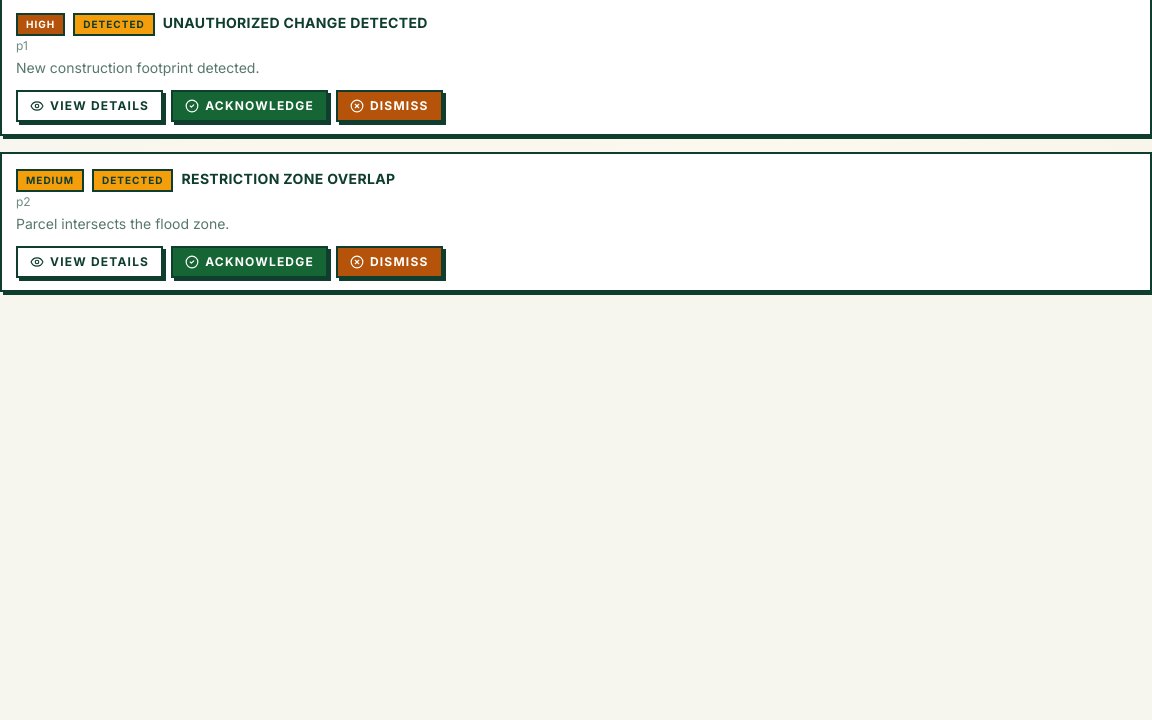
Test: GovernanceAlertsPanel › typing a reason and confirming Dismiss PATCHes the status with the reason, then closes the popup
Expected: the text "UNAUTHORIZED CHANGE DETECTED" is shown, [163,14,428,31]
Click the button "Dismiss" below "New construction footprint detected.": (389, 106) [336,90,442,122]
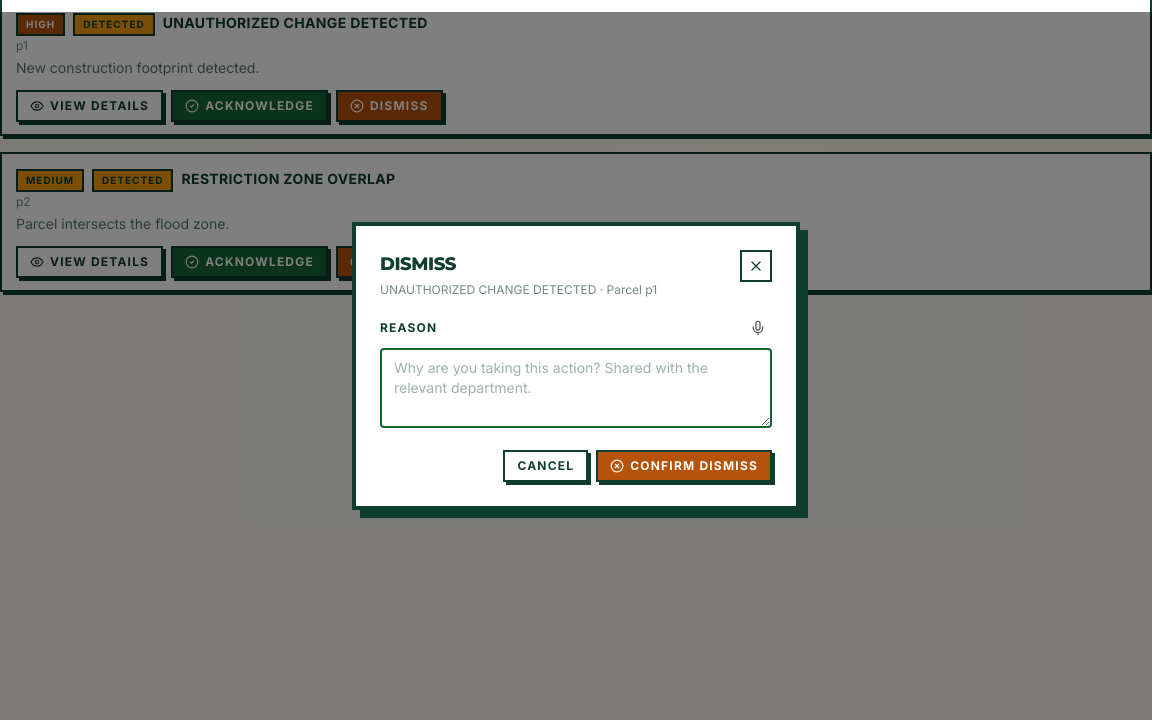
Replace the text in the text box labelled "Reason" with "Not a real issue.": (576, 388) [380,348,772,428]
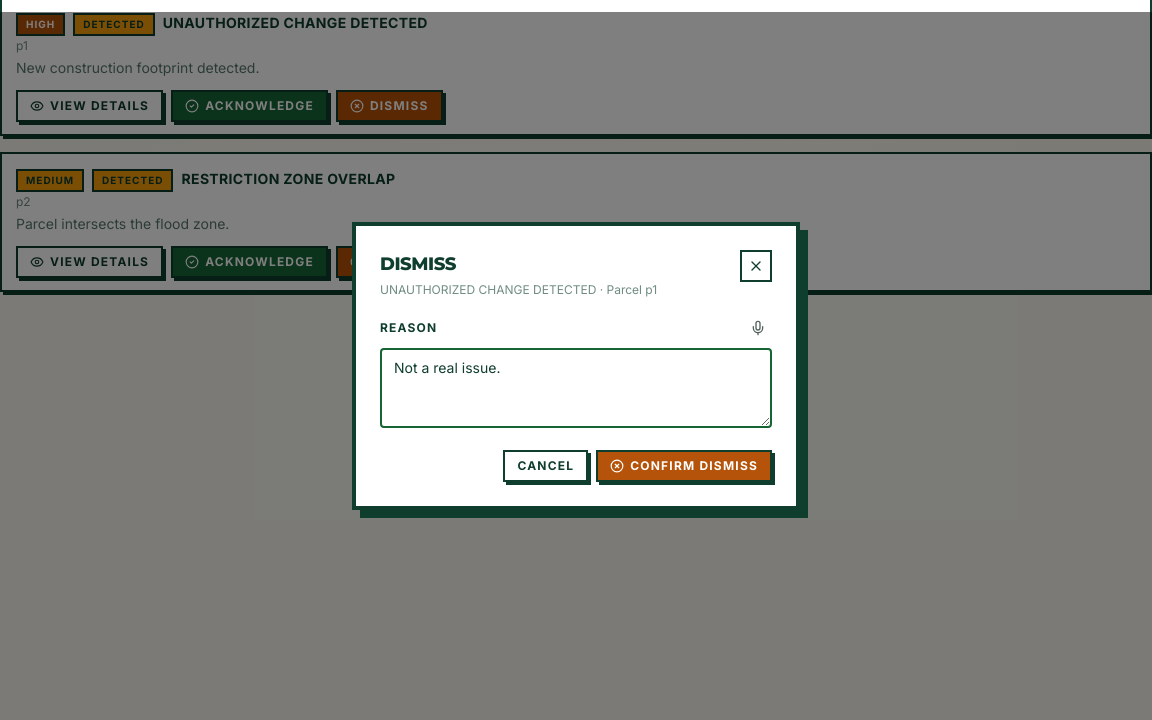
Click the button "Confirm Dismiss": (684, 466) [596,450,772,482]
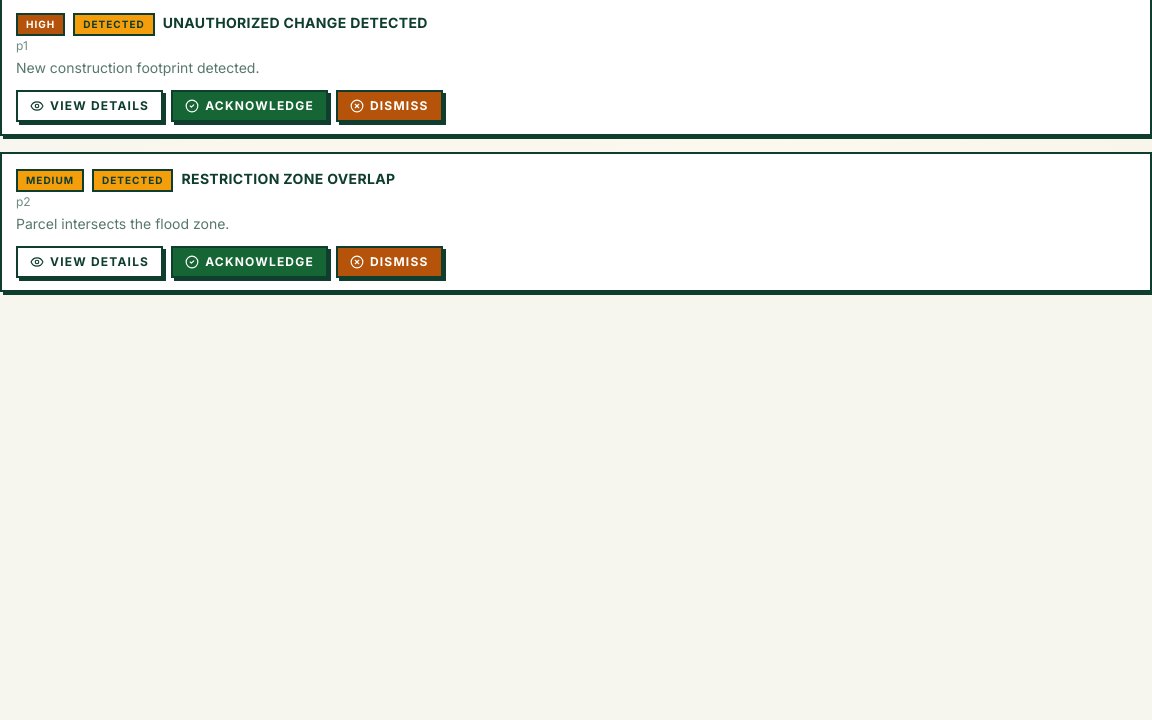
Expected: the dialog is gone
